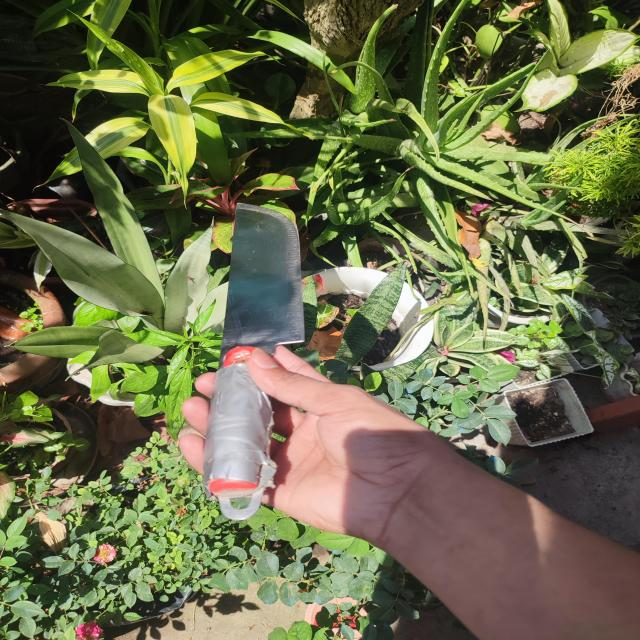knife: (202, 202, 304, 514)
